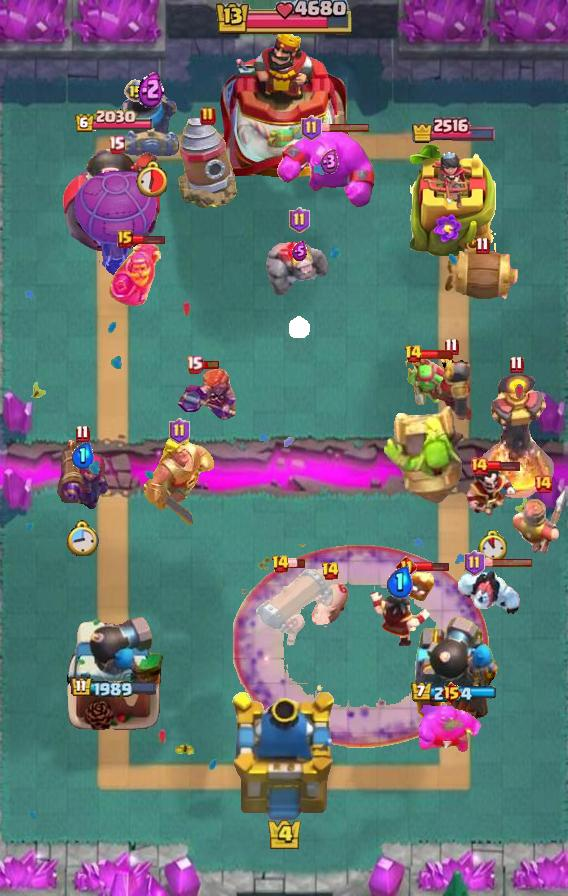battle-healer: (253, 564, 335, 648)
bomber: (404, 571, 436, 603)
cannon-cart: (73, 158, 159, 276)
clock: (213, 0, 355, 38)
clone: (275, 128, 383, 210)
earthquake: (512, 485, 568, 555)
electro-dragon: (477, 372, 555, 498)
electro-spirit: (138, 68, 164, 107), (386, 566, 413, 598), (70, 443, 93, 470), (320, 149, 340, 175), (293, 241, 307, 261)
elixir: (65, 520, 99, 556), (135, 160, 167, 197), (477, 530, 506, 562), (289, 314, 311, 337)
emote: (319, 122, 371, 133), (482, 556, 534, 567), (487, 460, 521, 472), (414, 560, 450, 571), (130, 234, 165, 245), (420, 348, 454, 359), (200, 358, 220, 370), (287, 558, 306, 569)
firecracker: (431, 356, 474, 422)
firecracker-evolution: (107, 242, 160, 307)
giant: (309, 581, 351, 627)
giant-snowball: (402, 357, 450, 407)
goblin-hut: (141, 433, 217, 529)
king-tower: (218, 27, 350, 181), (227, 692, 341, 826)
lumberjack: (366, 589, 432, 647), (466, 465, 518, 519)
magic-archer: (178, 115, 238, 209)
mega-minion: (56, 437, 108, 509)
musketeer: (121, 92, 181, 156)
queen-tower: (410, 144, 496, 255)
rage: (454, 566, 524, 618)
rocket: (233, 544, 489, 748)
selected: (410, 115, 496, 144), (70, 676, 158, 700), (74, 110, 154, 135), (410, 682, 496, 704)
tesla-evolution: (175, 365, 239, 423)
text: (124, 79, 148, 103), (289, 207, 311, 233), (463, 550, 485, 576), (441, 681, 464, 705), (302, 115, 323, 141), (169, 418, 190, 444), (396, 555, 417, 576), (469, 456, 489, 476), (533, 474, 553, 494), (320, 561, 340, 581), (404, 344, 423, 364), (271, 554, 290, 574), (107, 134, 124, 153), (200, 106, 216, 126), (185, 355, 202, 373), (117, 230, 133, 248), (475, 237, 490, 256), (445, 337, 460, 356), (509, 355, 524, 373), (75, 425, 89, 443)
the-log: (442, 246, 522, 306)
tornado: (419, 704, 483, 754)
tower-bar: (62, 138, 166, 256), (63, 615, 165, 731), (403, 615, 503, 731)
valkyrie-evolution: (265, 236, 333, 296)
x-bow: (381, 404, 465, 506)
